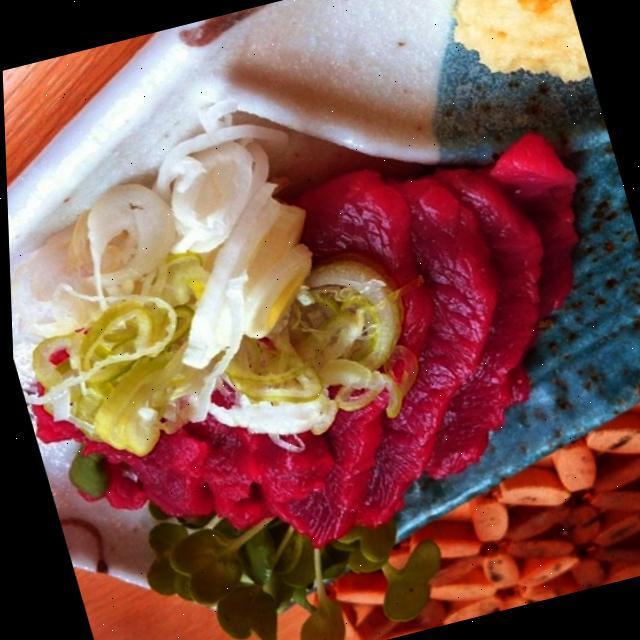刺身生食: (2, 68, 640, 640)
